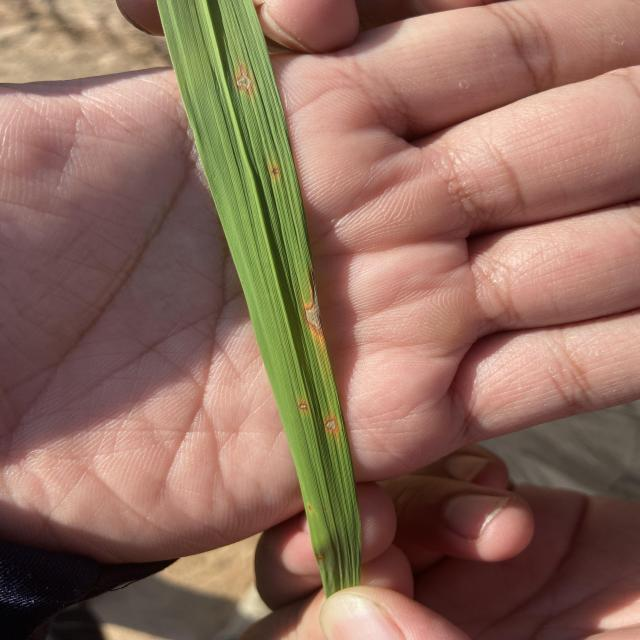Dao on: (303, 272, 321, 333), (236, 66, 252, 91), (325, 413, 338, 435), (298, 401, 308, 411), (271, 167, 280, 177), (307, 504, 312, 511), (318, 557, 322, 560)
